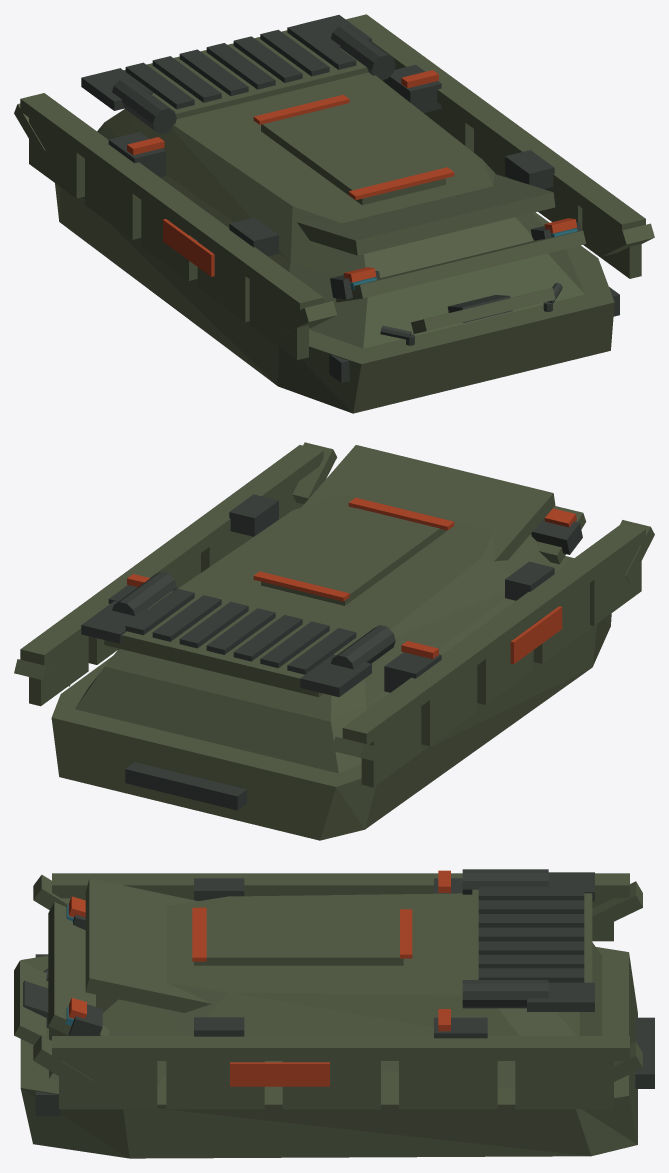
The model's file is Bastion_HT77_Hull.obj.
The picture shows the model from 3 angles, top to bottom: view 1: azimuth 30°, elevation 25°; view 2: azimuth 150°, elevation 25°; view 3: azimuth 270°, elevation 25°; orthographic projection. The views are drawn at different scales.
Parts seen in each view (by area): view 1: Bastion_HT77_Hull; view 2: Bastion_HT77_Hull; view 3: Bastion_HT77_Hull.
Part boxes in pixels (bbox=[...]): Bastion_HT77_Hull: bbox=[14, 14, 654, 413]; Bastion_HT77_Hull: bbox=[14, 442, 654, 840]; Bastion_HT77_Hull: bbox=[14, 869, 654, 1158].
Size of the model in its own units: 4.68 by 1.88 by 7.16.
1 material, 1 textured.
